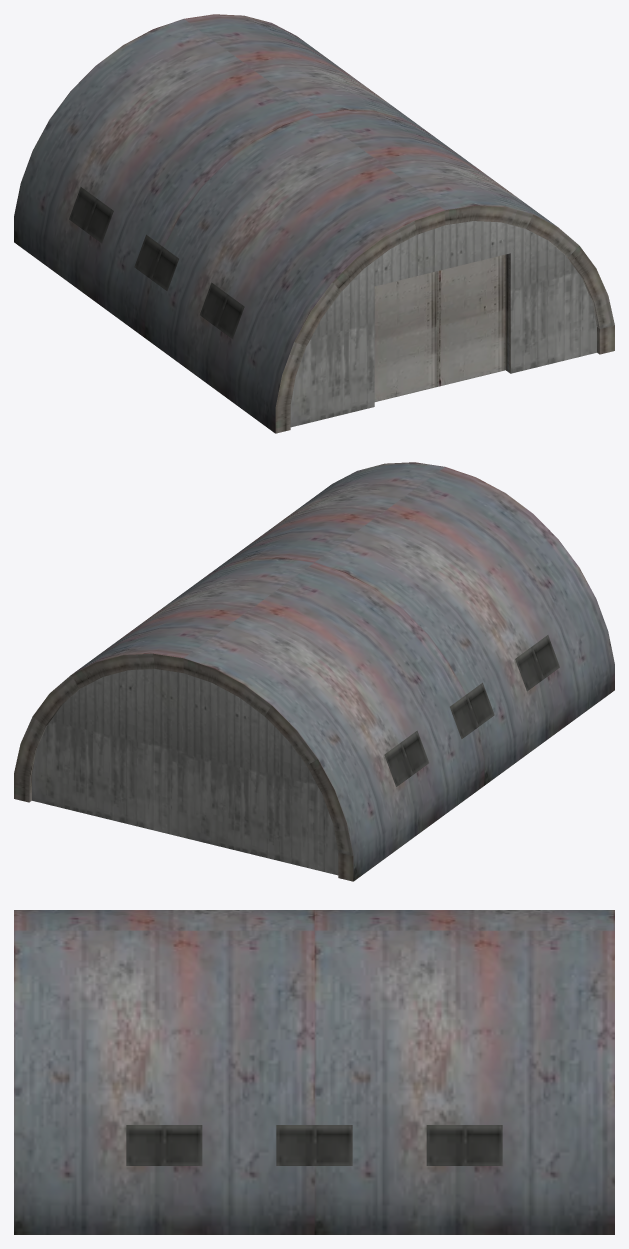
The model's file is rural-quonset.lod0.glb.
3 renders of one model, top to bottom at view 1: azimuth 30°, elevation 25°; view 2: azimuth 150°, elevation 25°; view 3: azimuth 270°, elevation 25°, orthographic. The views are drawn at different scales.
Visible parts, largest first — view 1: Rural_QuonsetHut_1_Rural_Industrial_Walls_FLR_1_0; view 2: Rural_QuonsetHut_1_Rural_Industrial_Walls_FLR_1_0; view 3: Rural_QuonsetHut_1_Rural_Industrial_Walls_FLR_1_0.
Boxes of the visible parts, x1,y1,x2,y2 form: Rural_QuonsetHut_1_Rural_Industrial_Walls_FLR_1_0: [14, 14, 614, 433]; Rural_QuonsetHut_1_Rural_Industrial_Walls_FLR_1_0: [14, 462, 614, 881]; Rural_QuonsetHut_1_Rural_Industrial_Walls_FLR_1_0: [14, 910, 614, 1234].
Bounding box in the file's own units: 9.38 × 4.81 × 12.52.
Materials: 1 (1 with a texture image).
